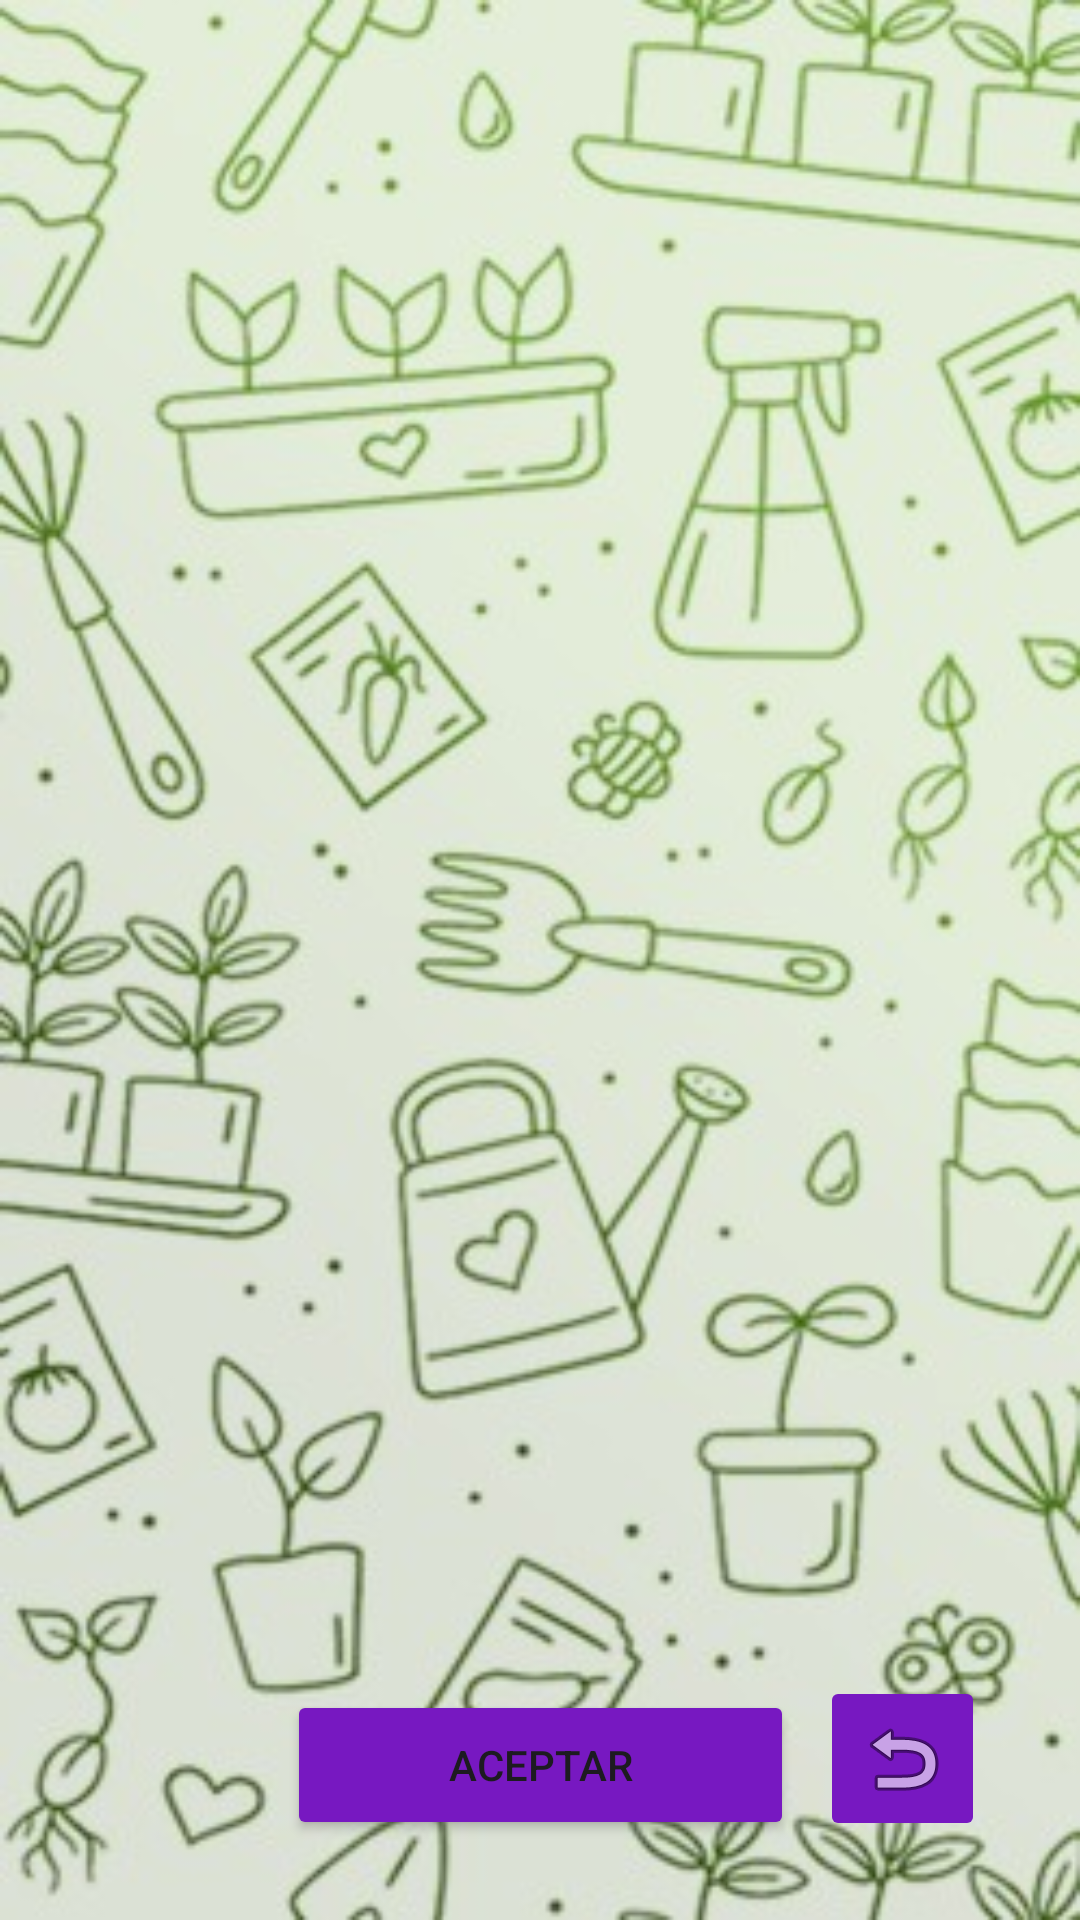

Screen size 1080px×1920px. Icon name, then its center in pixels as (x=x, y=y):
Regresar: (x=902, y=1758)
